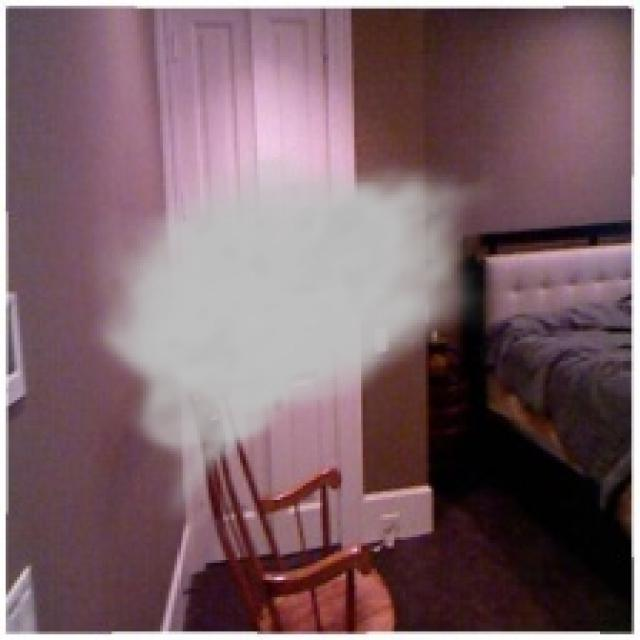smoke: (83, 146, 497, 528)
